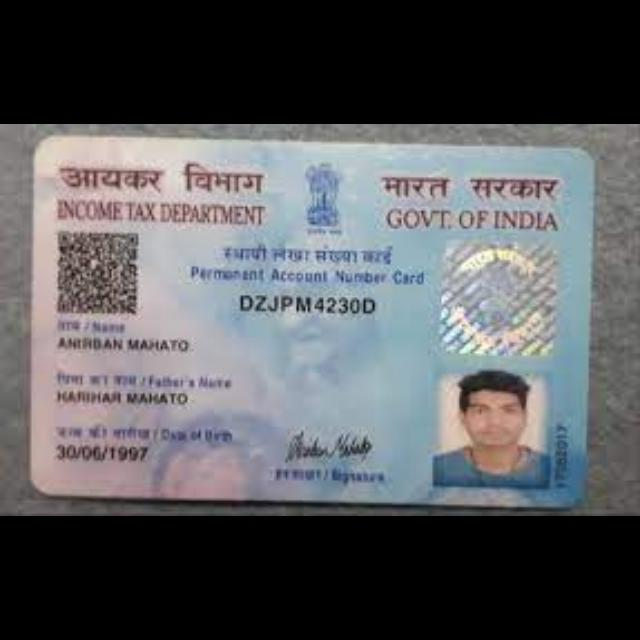pan: (25, 131, 602, 511)
